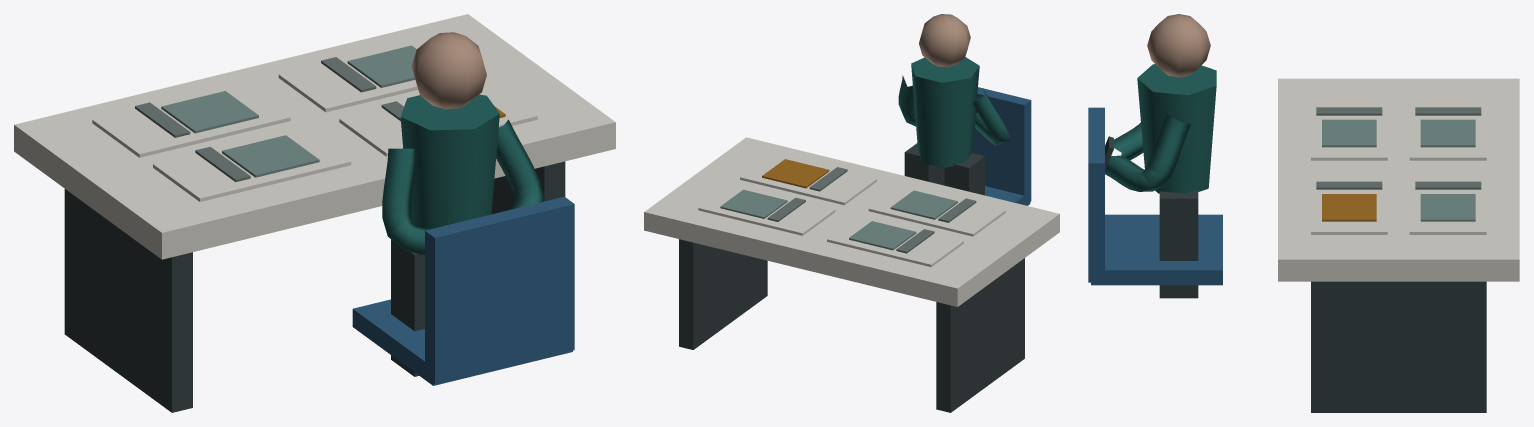
Rendered from researcher-v2.glb.
3 renders of one model, left to right at view 1: azimuth 30°, elevation 25°; view 2: azimuth 150°, elevation 25°; view 3: azimuth 270°, elevation 25°, orthographic. The views are drawn at different scales.
Visible parts, largest first — view 1: FourResearchEvidenceSheets; view 2: FourResearchEvidenceSheets; view 3: FourResearchEvidenceSheets.
Part boxes in pixels (x1,y1,x2,y2): FourResearchEvidenceSheets: [14, 14, 615, 412]; FourResearchEvidenceSheets: [644, 14, 1059, 412]; FourResearchEvidenceSheets: [1088, 14, 1519, 412].
Bounding box in the file's own units: 0.39 × 0.319 × 0.3925.
